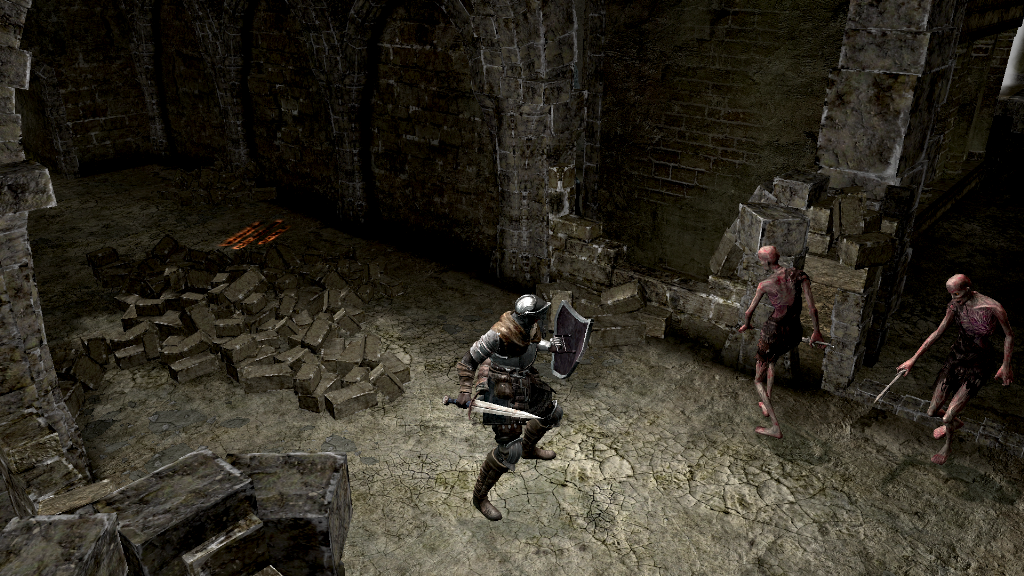hollow: (899, 274, 1012, 464), (738, 245, 826, 438)
player: (439, 294, 597, 520)
